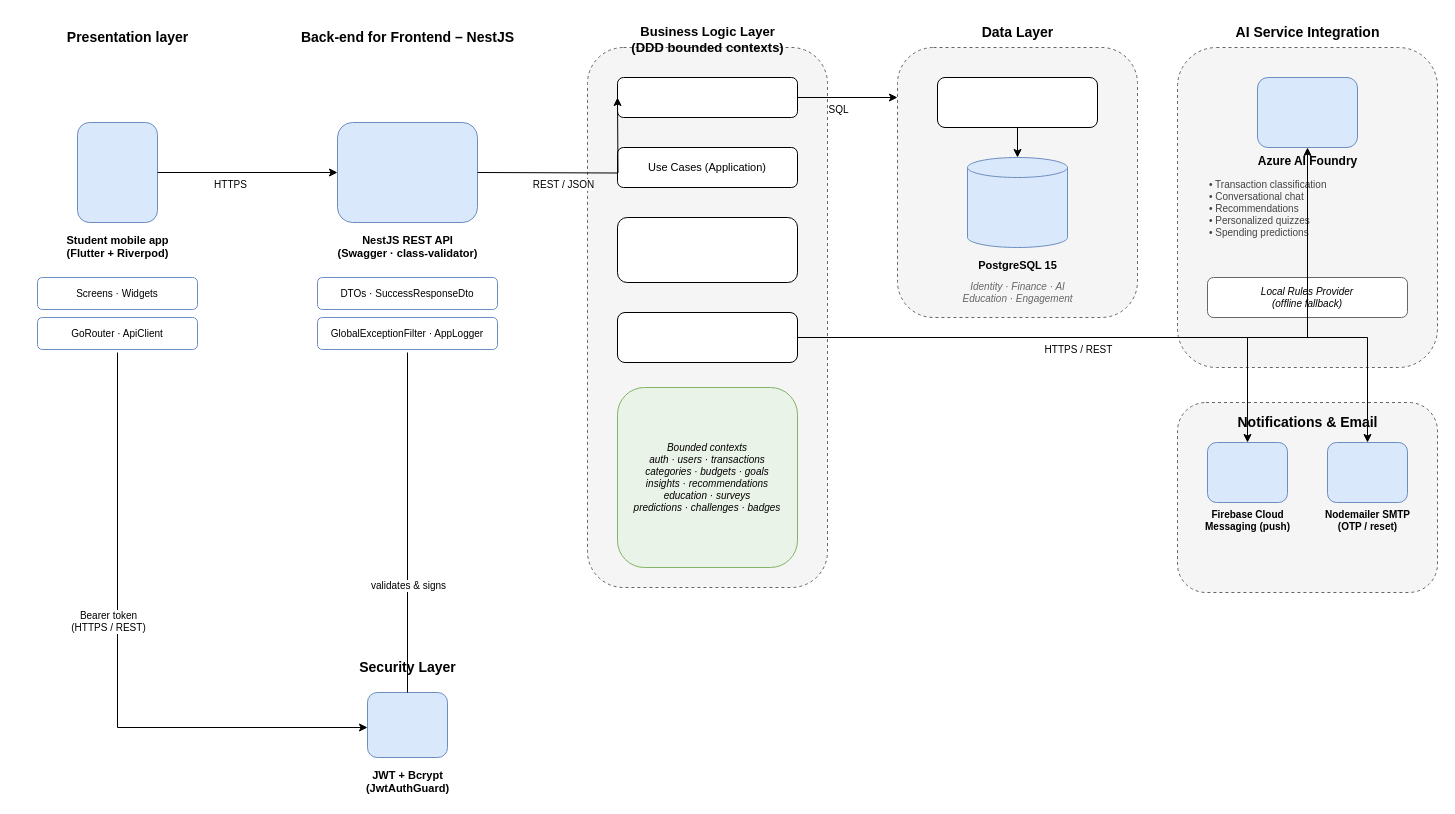
Image size: 1455x814. Some labels were removed from this diagram. The centre of each missing label's shape, as x and y in pixels:
"Controllers · DTOs" goes at point 707,97.
"Domain Entities · Value Objects Repository ports" goes at point 707,249.
"Infrastructure Repository implementations" goes at point 707,337.
"Prisma ORM (schema · migrations)" goes at point 1017,102.
